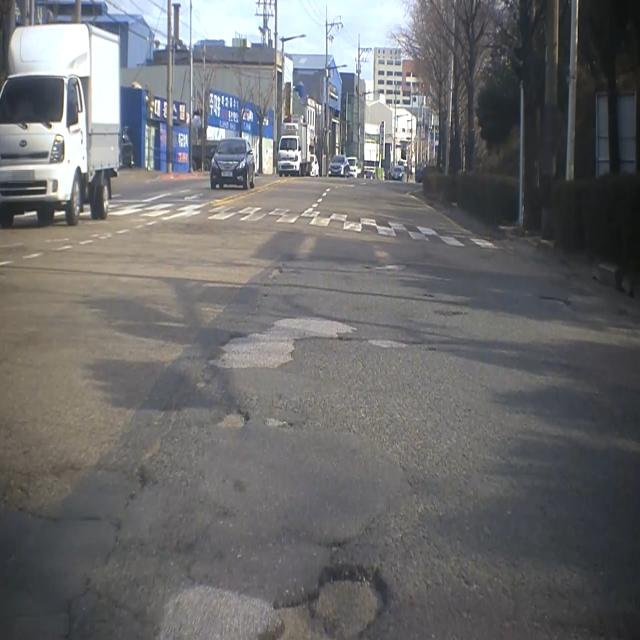Pothole: (206, 308, 359, 382), (273, 557, 402, 640), (126, 452, 165, 499), (218, 406, 254, 438), (366, 334, 410, 356)
